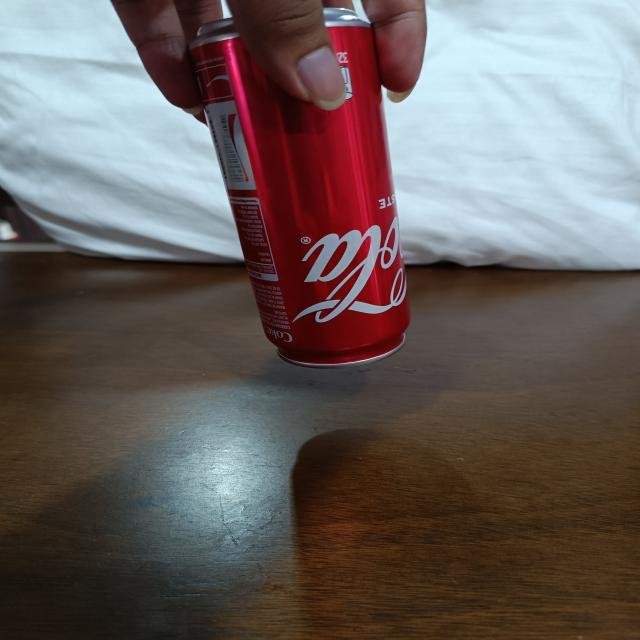coke: (190, 8, 418, 365)
